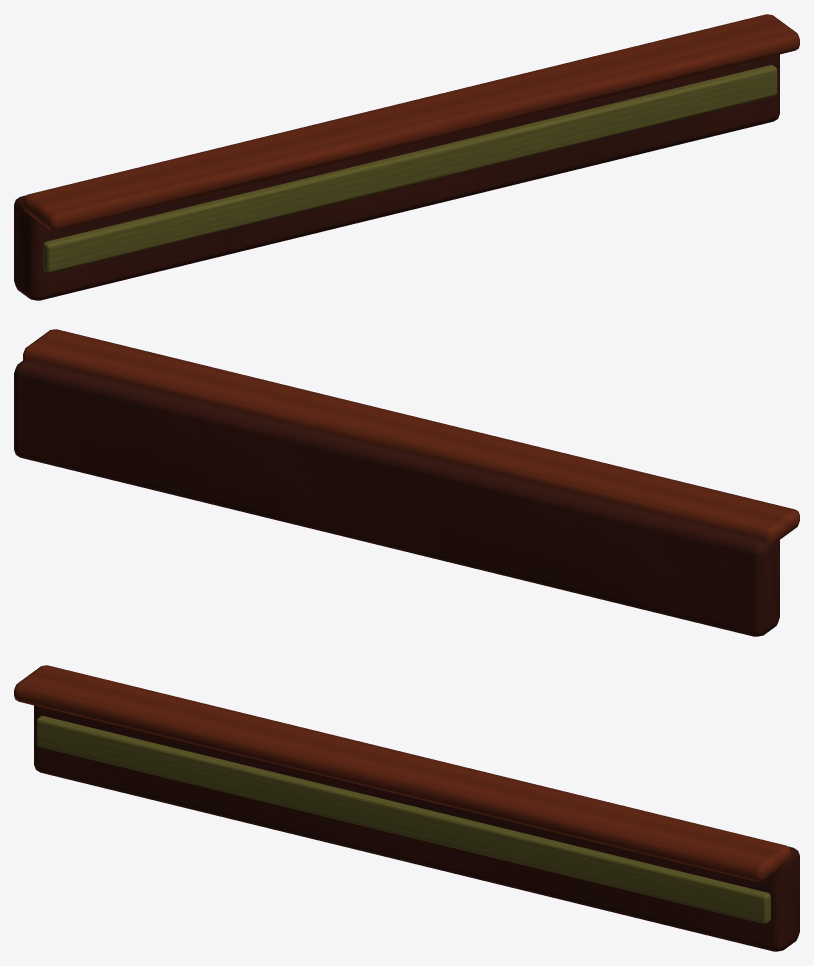
File: 10_Modular_LowerMolding.fbx
The picture shows the model from 3 angles, top to bottom: view 1: azimuth 30°, elevation 25°; view 2: azimuth 150°, elevation 25°; view 3: azimuth 330°, elevation 25°; orthographic projection.
Parts seen in each view (by area): view 1: LowerMolding_Cap.001, LowerMolding_Back.001, LowerMolding_Inset.001; view 2: LowerMolding_Back.001, LowerMolding_Cap.001; view 3: LowerMolding_Cap.001, LowerMolding_Back.001, LowerMolding_Inset.001.
Boxes of the visible parts, x1,y1,x2,y2 form: LowerMolding_Cap.001: (23,14,799,230); LowerMolding_Back.001: (14,54,779,300); LowerMolding_Inset.001: (43,65,777,272); LowerMolding_Back.001: (14,359,779,636); LowerMolding_Cap.001: (23,329,799,543); LowerMolding_Cap.001: (14,665,790,881); LowerMolding_Back.001: (34,705,799,951); LowerMolding_Inset.001: (36,716,770,923).
Bounding box in the file's own units: 3 × 0.395 × 0.29.
3 materials, 3 textured.
